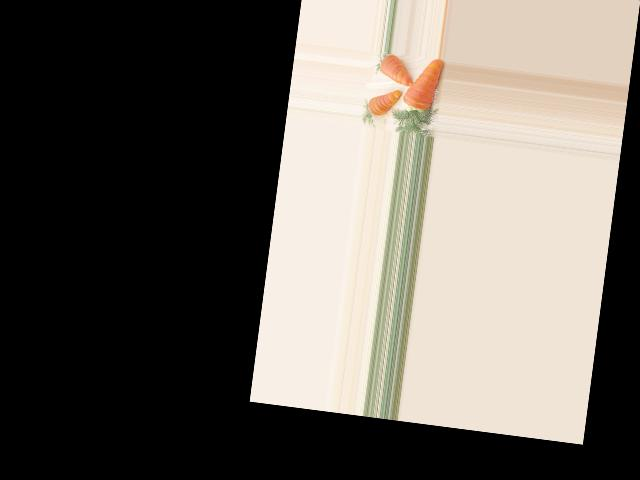carrot: (397, 54, 447, 117)
